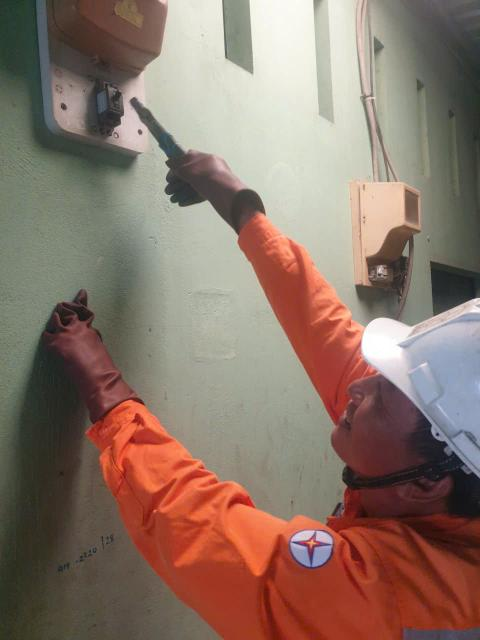gloves: (38, 285, 177, 422), (142, 146, 282, 226)
helmet: (354, 258, 480, 487)
